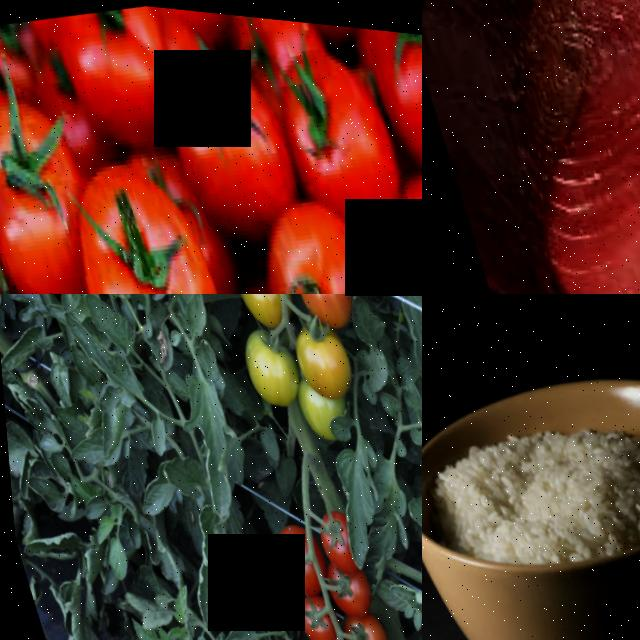tomato: (146, 26, 309, 246), (44, 138, 237, 294), (282, 305, 355, 401), (232, 316, 303, 408), (259, 508, 325, 594), (285, 294, 358, 329), (330, 597, 386, 640)
tuna: (424, 0, 640, 294)
white rice: (422, 394, 640, 581)
